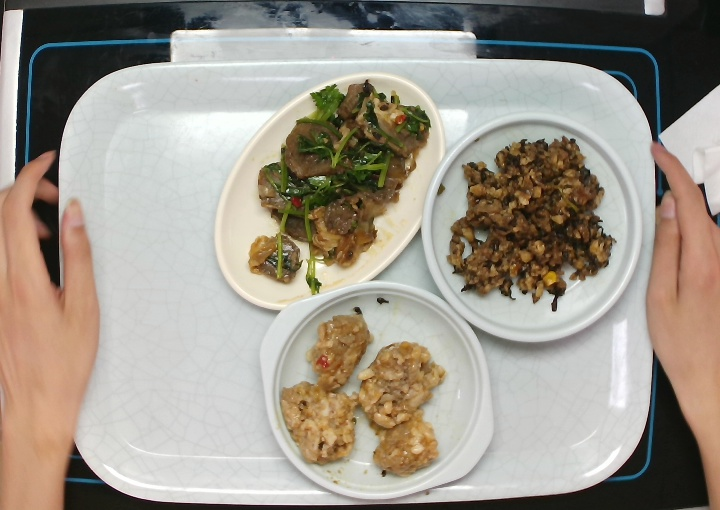JYsf-Shuang_Er_Pan: (254, 276, 502, 504)
JYsf-Tuo_Yuan_Wan: (211, 63, 453, 315)
JYsf-Xiao_Yuan_Pan: (420, 110, 646, 349)
